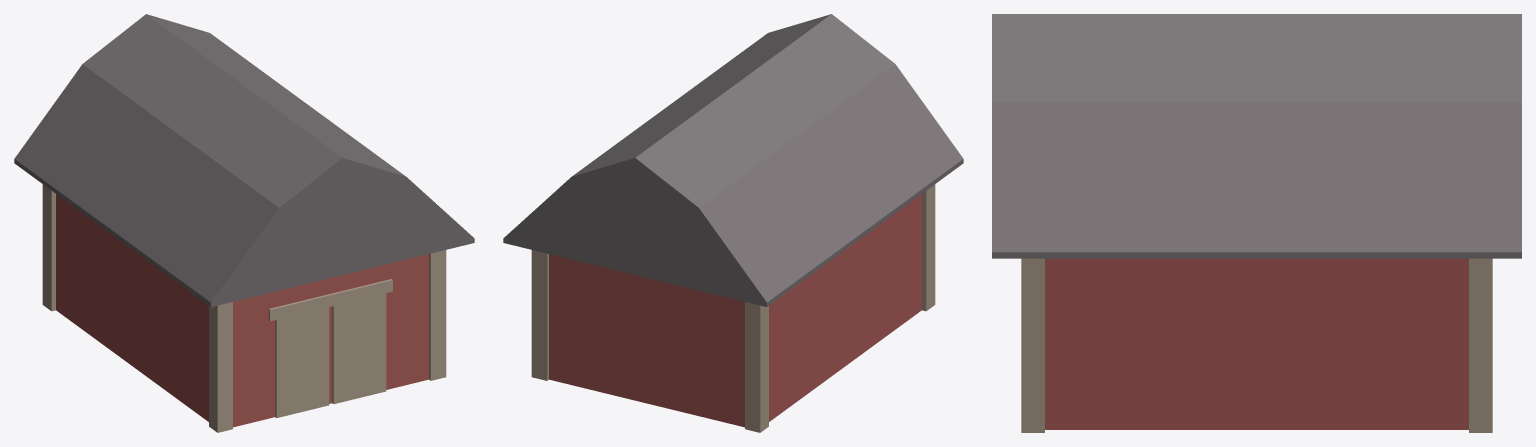
Rendered from big_barn.fbx.
The picture shows the model from 3 angles, left to right: view 1: azimuth 30°, elevation 25°; view 2: azimuth 150°, elevation 25°; view 3: azimuth 270°, elevation 25°; orthographic projection. The views are drawn at different scales.
Parts seen in each view (by area): view 1: big_barn; view 2: big_barn; view 3: big_barn.
Boxes of the visible parts, box(x1,y1,x2,y2) form: big_barn: box(14, 14, 474, 432); big_barn: box(503, 14, 963, 432); big_barn: box(992, 14, 1521, 432).
Bounding box in the file's own units: 7.2 × 6.66 × 9.3.
